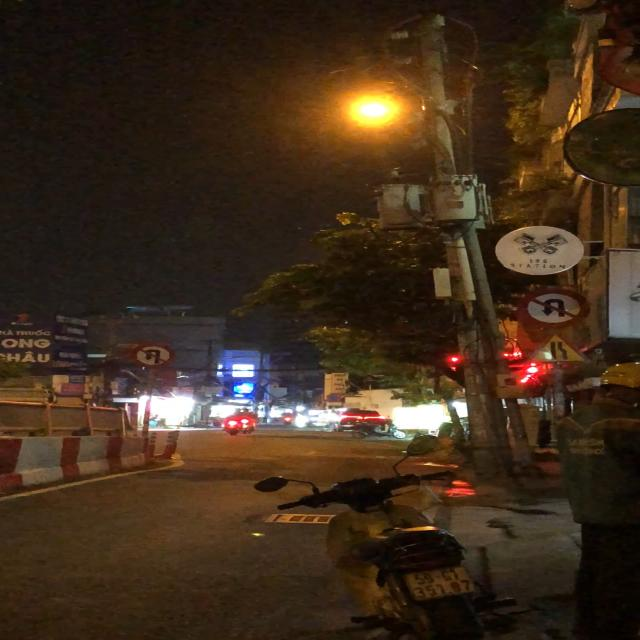Bien bao cam quay dau xe: (516, 288, 592, 328), (126, 340, 178, 368)
Bien bao duong bi thu hep: (520, 330, 594, 365)
